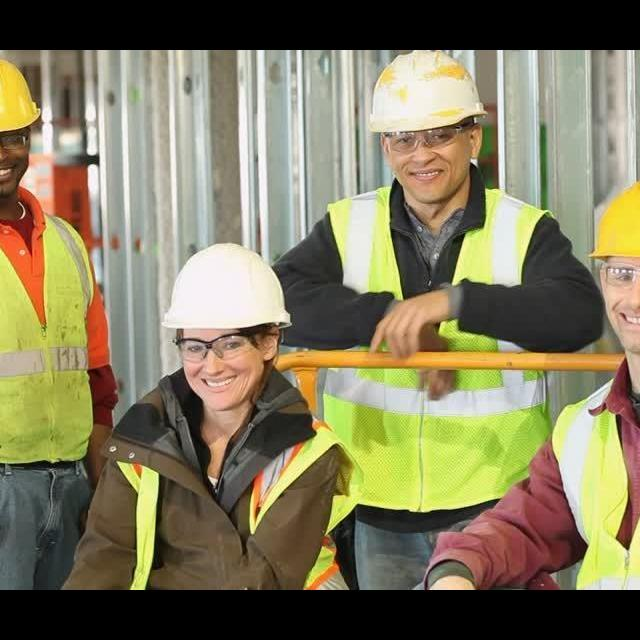Hardhat: (161, 239, 291, 333), (365, 52, 490, 134), (590, 178, 640, 268), (0, 54, 42, 135)
NO-Mask: (393, 160, 468, 203), (189, 369, 260, 410), (610, 303, 640, 352), (0, 162, 29, 200)
Person: (266, 52, 606, 590), (58, 241, 348, 590), (423, 180, 640, 590), (0, 55, 119, 590)
Safety Vest: (316, 183, 553, 507), (115, 418, 368, 590), (0, 204, 93, 465), (559, 344, 640, 590)
